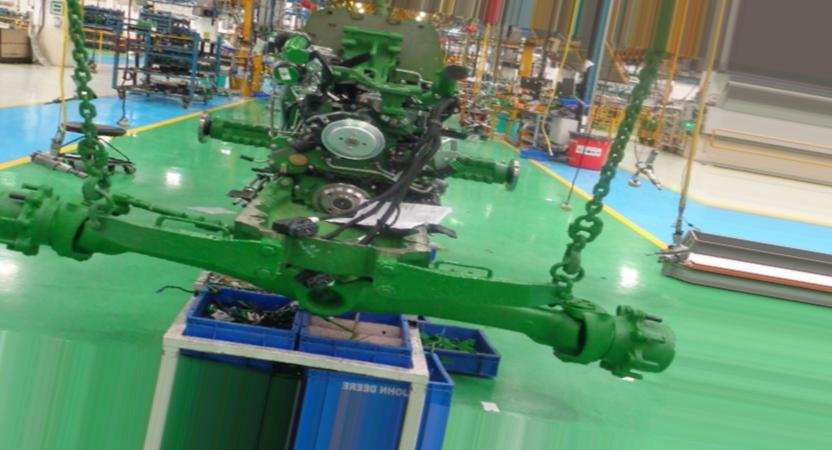engine: (0, 0, 679, 380)
